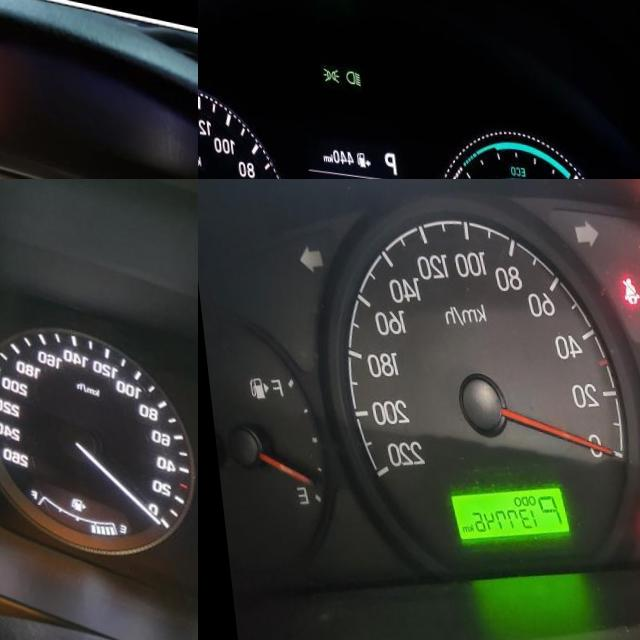Low beam: (342, 59, 357, 77)
SideLamp: (318, 57, 337, 76)
